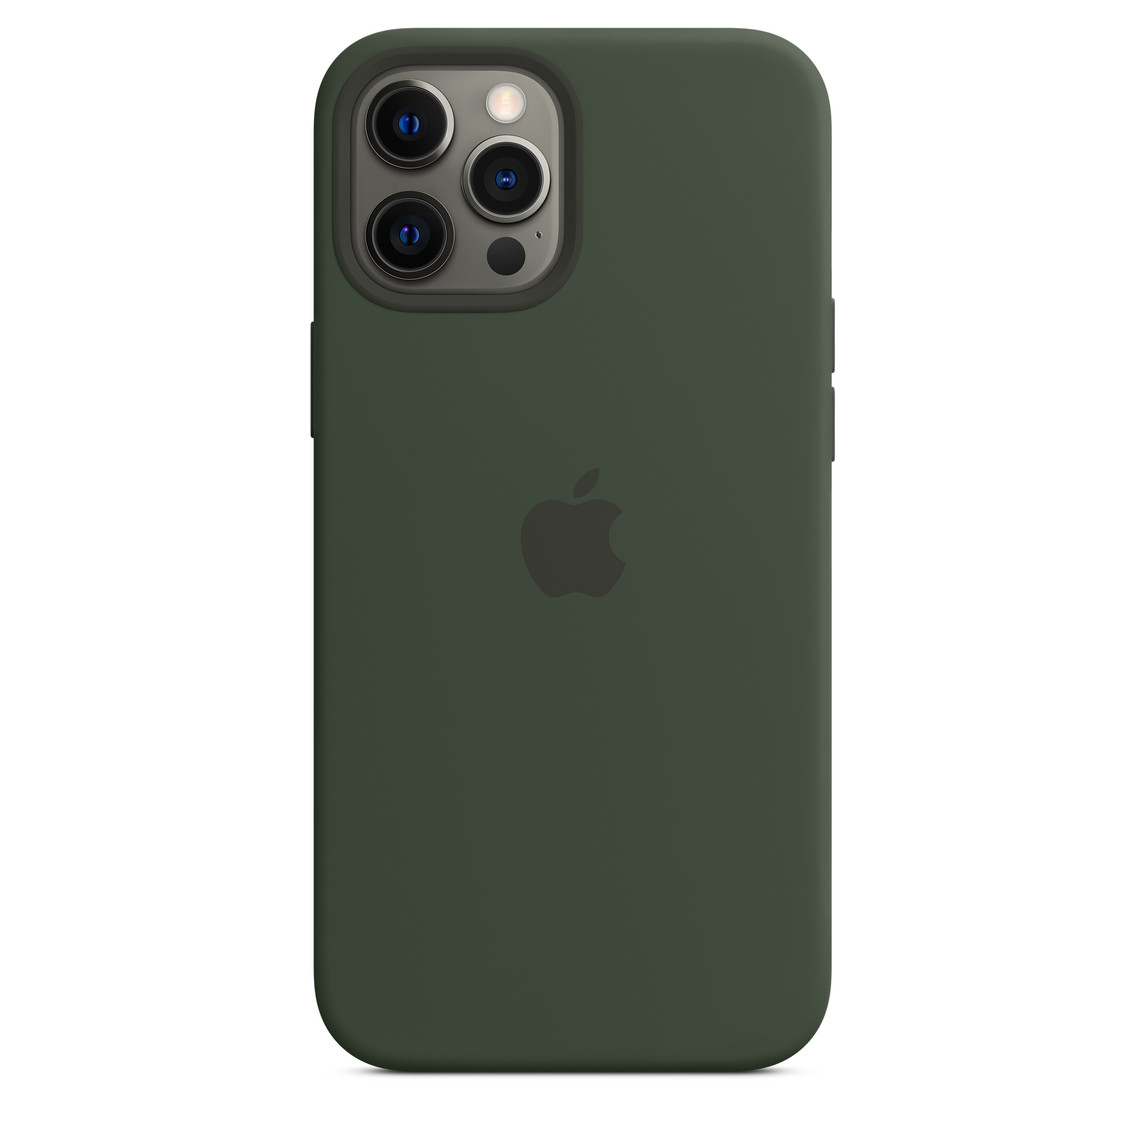phone: (279, 10, 868, 1096)
